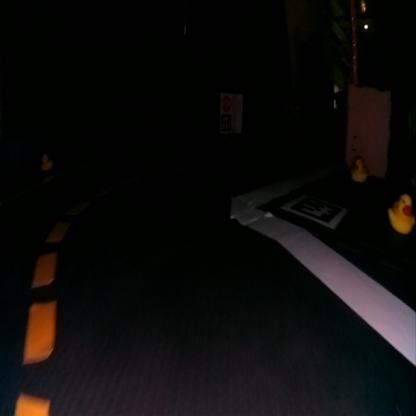Duckie: (389, 193, 413, 233), (350, 158, 366, 179), (40, 152, 52, 170)
QR code: (285, 194, 341, 227), (221, 114, 231, 130)
Stop sign: (221, 94, 231, 112)
